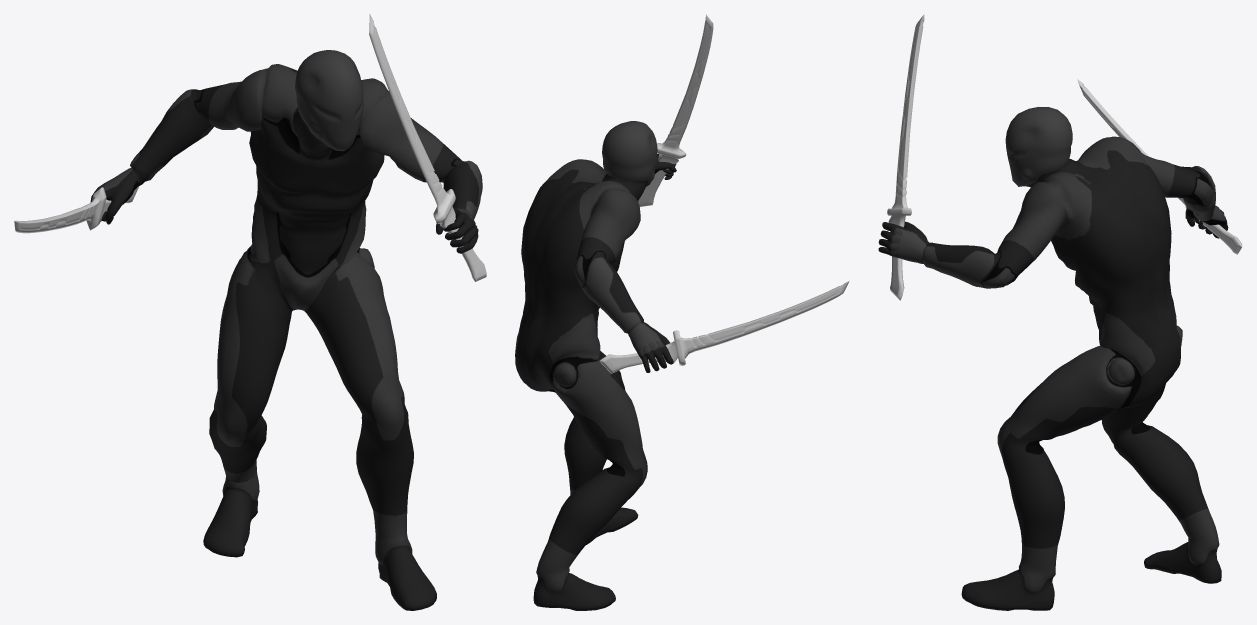
The picture shows the model from 3 angles, left to right: view 1: azimuth 30°, elevation 25°; view 2: azimuth 150°, elevation 25°; view 3: azimuth 270°, elevation 25°; orthographic projection. The views are drawn at different scales.
Parts seen in each view (by area): view 1: Cyborg_Ninja_Killer, Sword_l, Sword_l001; view 2: Cyborg_Ninja_Killer, Sword_l001, Sword_l; view 3: Cyborg_Ninja_Killer, Sword_l, Sword_l001.
Boxes of the visible parts, box(x1,y1,x2,y2) form: Cyborg_Ninja_Killer: box(90, 50, 482, 610); Sword_l: box(369, 14, 486, 281); Sword_l001: box(14, 186, 139, 233); Cyborg_Ninja_Killer: box(515, 121, 676, 610); Sword_l001: box(599, 281, 849, 373); Sword_l: box(638, 14, 713, 206); Cyborg_Ninja_Killer: box(878, 107, 1228, 610); Sword_l: box(887, 14, 924, 300); Sword_l001: box(1077, 79, 1242, 254).
Size of the model in its own units: 130 by 190 by 113.
